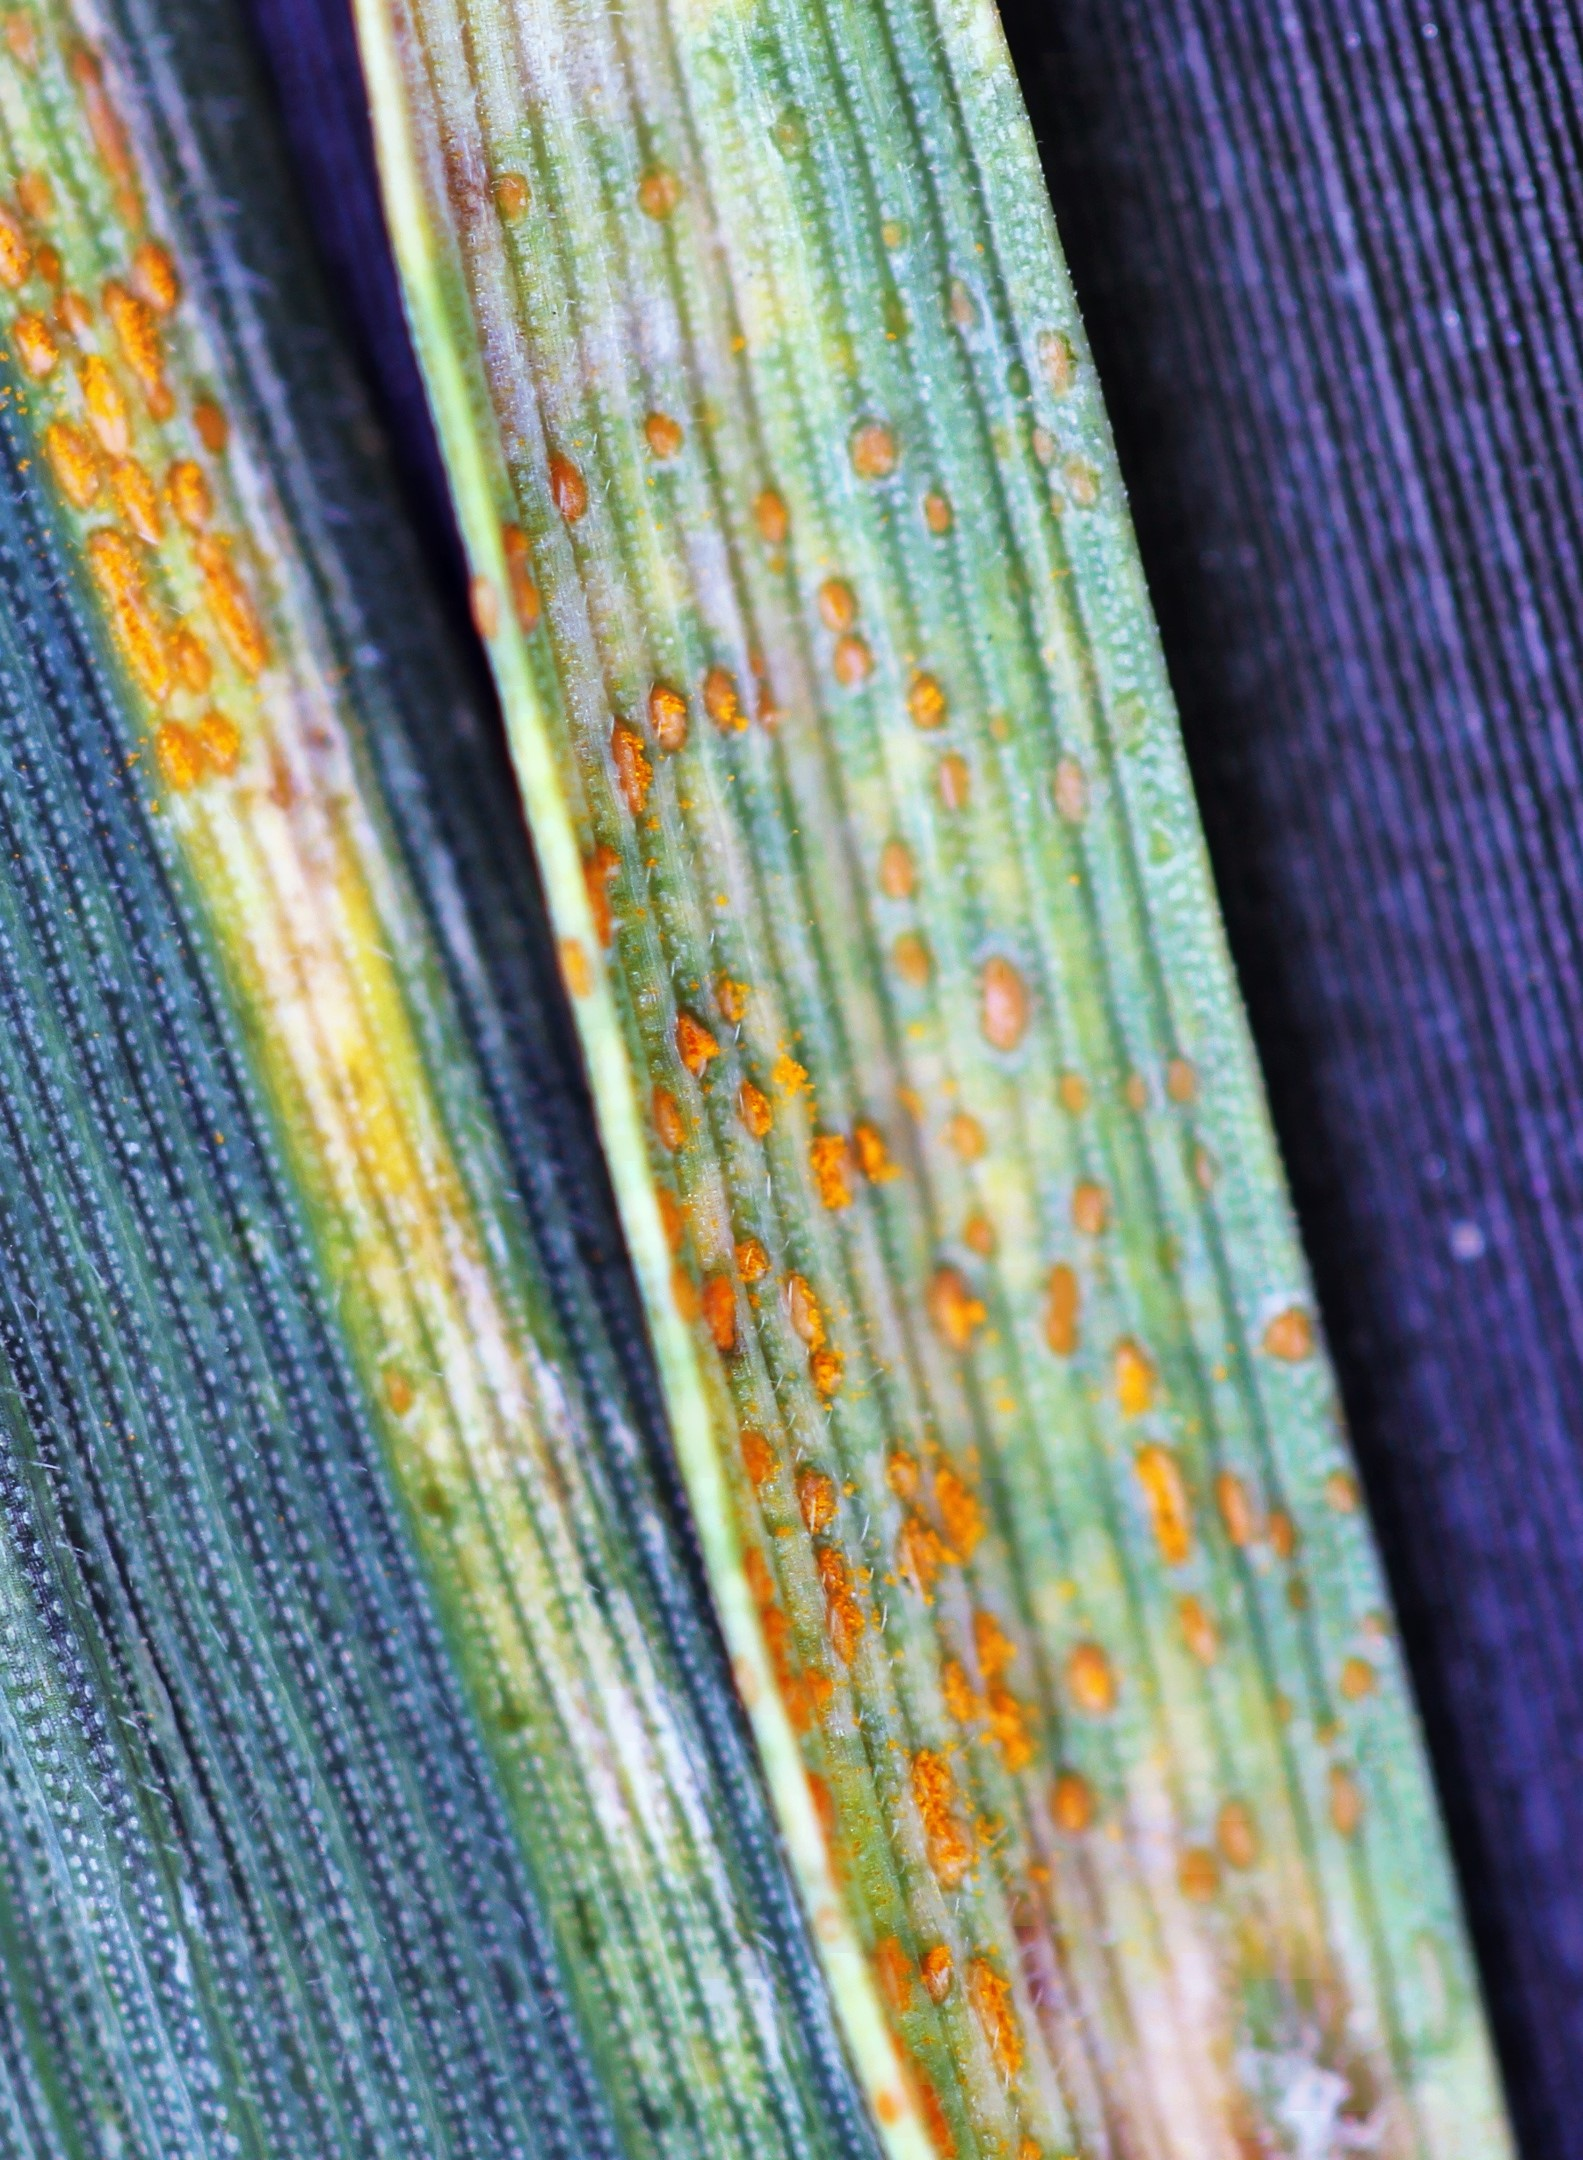Leaf Rust: (538, 424, 1368, 1954)
